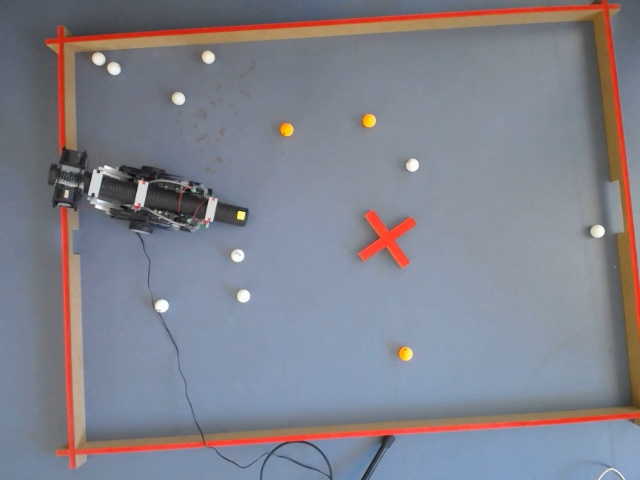orange: (361, 112, 377, 129), (278, 121, 295, 137), (399, 346, 412, 362)
white: (588, 222, 607, 241), (200, 49, 217, 66), (404, 156, 420, 173), (230, 247, 246, 264), (91, 50, 107, 67), (170, 90, 187, 106), (106, 60, 122, 77), (236, 288, 251, 304), (154, 298, 169, 313), (235, 210, 248, 223)
